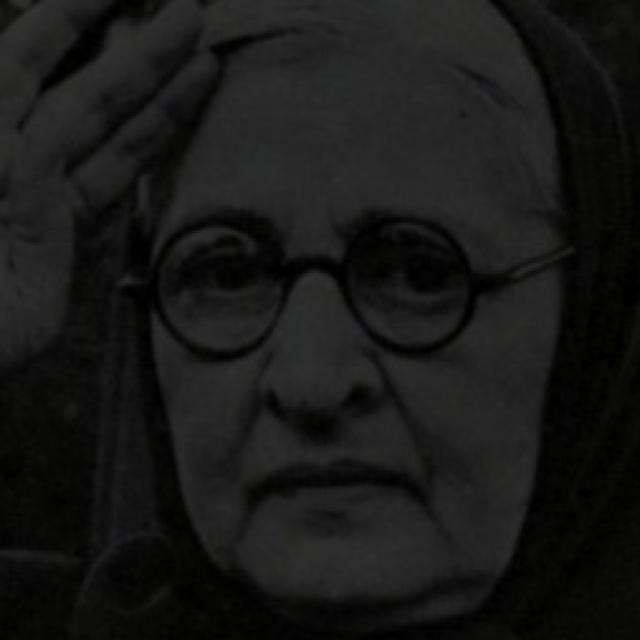Angry: (123, 29, 574, 585)
